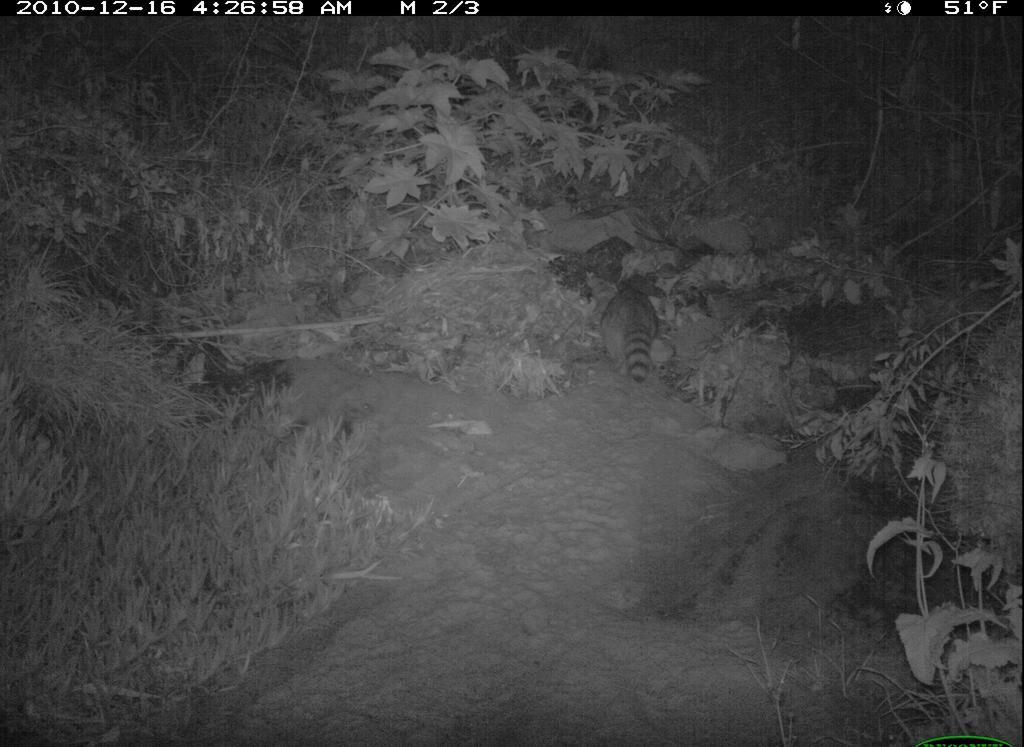raccoon: (594, 272, 685, 393)
